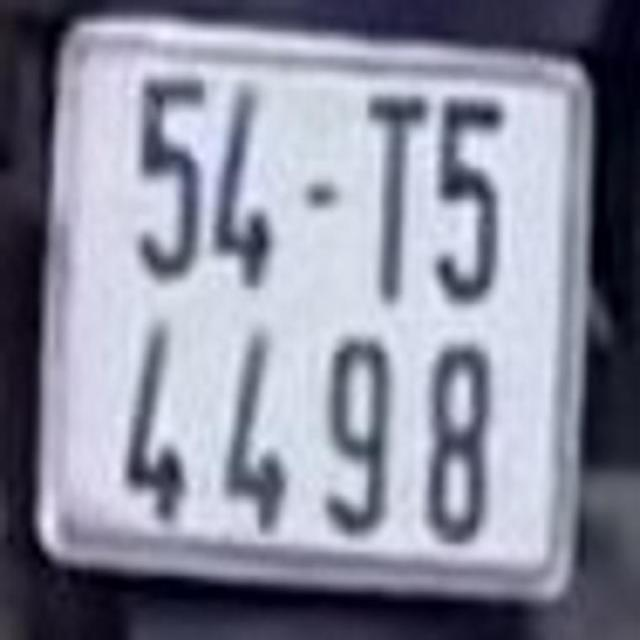4: (122, 318, 190, 522), (226, 328, 290, 536), (213, 80, 271, 292)
5: (436, 90, 504, 309), (136, 71, 206, 282)
8: (434, 339, 488, 544)
9: (326, 337, 388, 538)
T: (365, 91, 432, 303)
